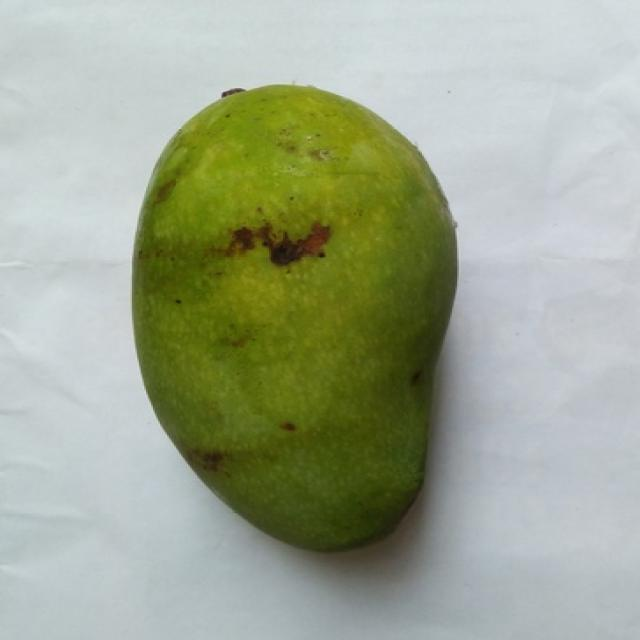Mango: (134, 85, 455, 551)
